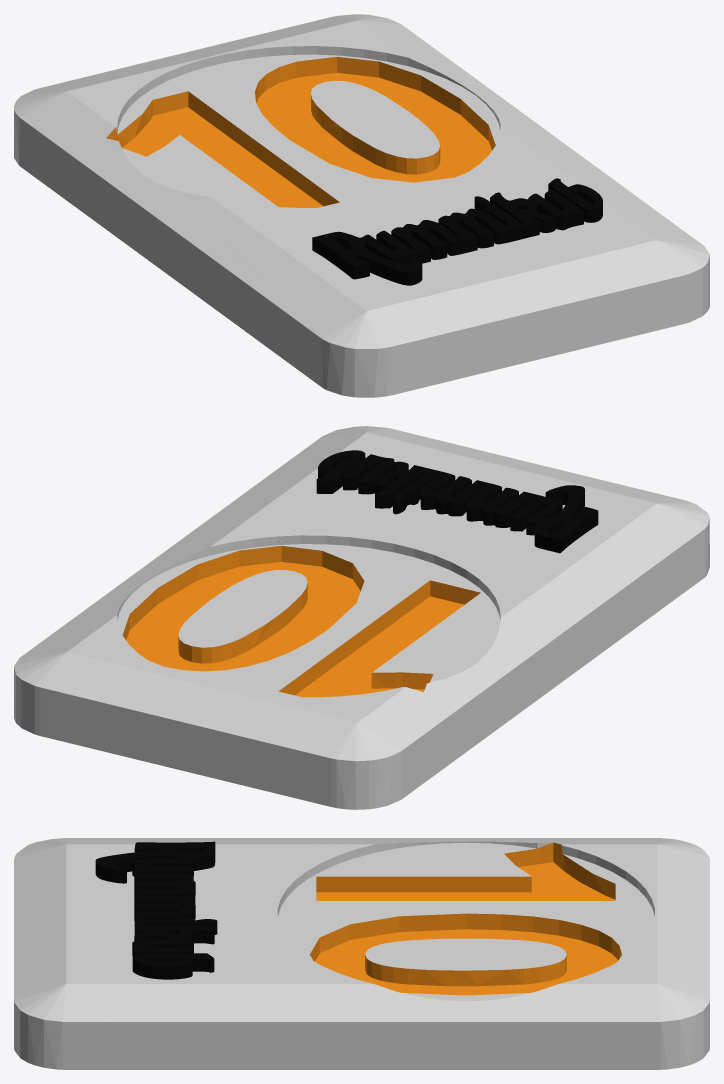
3 views of the same model, one above another, from view 1: azimuth 30°, elevation 25°; view 2: azimuth 150°, elevation 25°; view 3: azimuth 270°, elevation 25° (orthographic).
Visible parts, largest first — view 1: Rummikub 10 Fixed, Rummikub 1 Fixed.001; view 2: Rummikub 10 Fixed, Rummikub 1 Fixed.001; view 3: Rummikub 10 Fixed, Rummikub 1 Fixed.001.
Boxes of the visible parts, x1,y1,x2,y2 form: Rummikub 10 Fixed: (14, 14, 709, 397); Rummikub 1 Fixed.001: (312, 178, 602, 285); Rummikub 10 Fixed: (14, 426, 709, 809); Rummikub 1 Fixed.001: (316, 450, 598, 553); Rummikub 10 Fixed: (14, 838, 709, 1069); Rummikub 1 Fixed.001: (95, 841, 217, 979).
Bounding box in the file's own units: 2499 × 486 × 4000.
